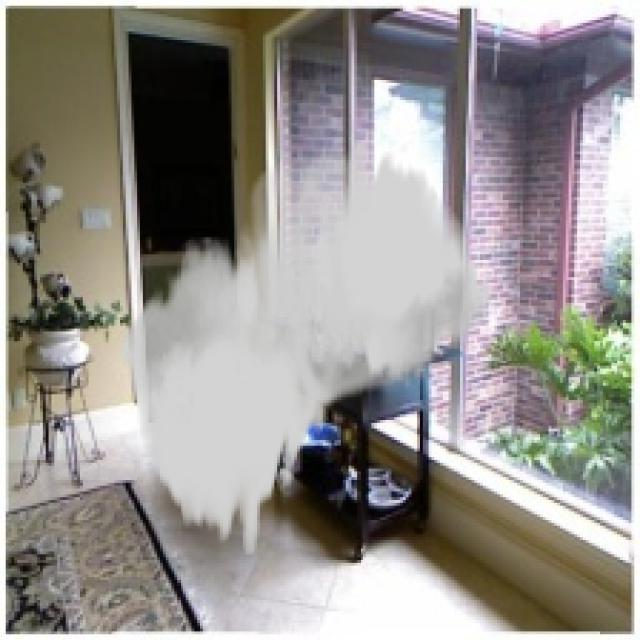Smoke: (120, 140, 494, 554)
